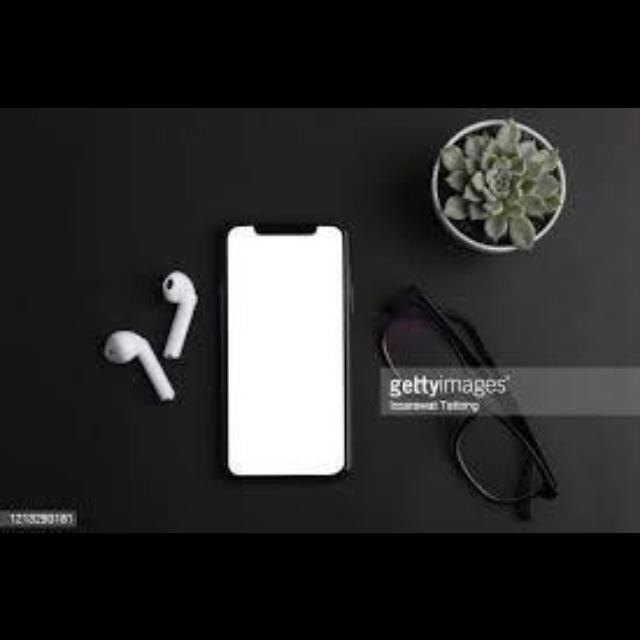Phone: (220, 220, 352, 478)
